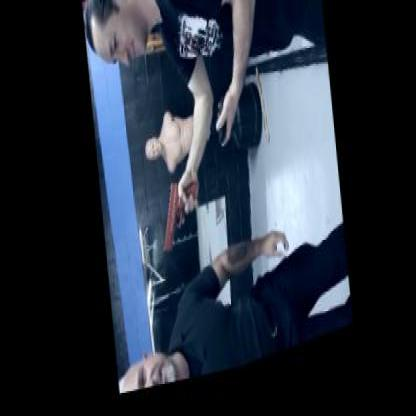pistol: (154, 180, 200, 262)
